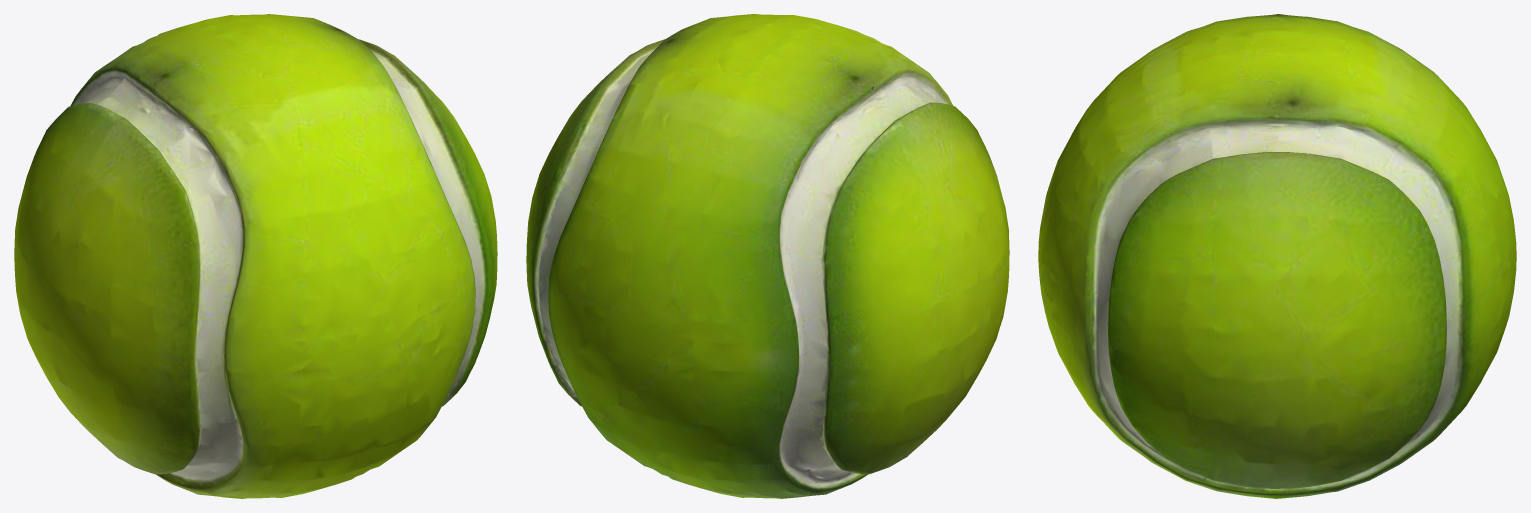
3 renders of one model, left to right at view 1: azimuth 30°, elevation 25°; view 2: azimuth 150°, elevation 25°; view 3: azimuth 270°, elevation 25°, orthographic.
Size of the model in its own units: 1.9 by 1.9 by 1.9.
Materials: 1 (1 with a texture image).
